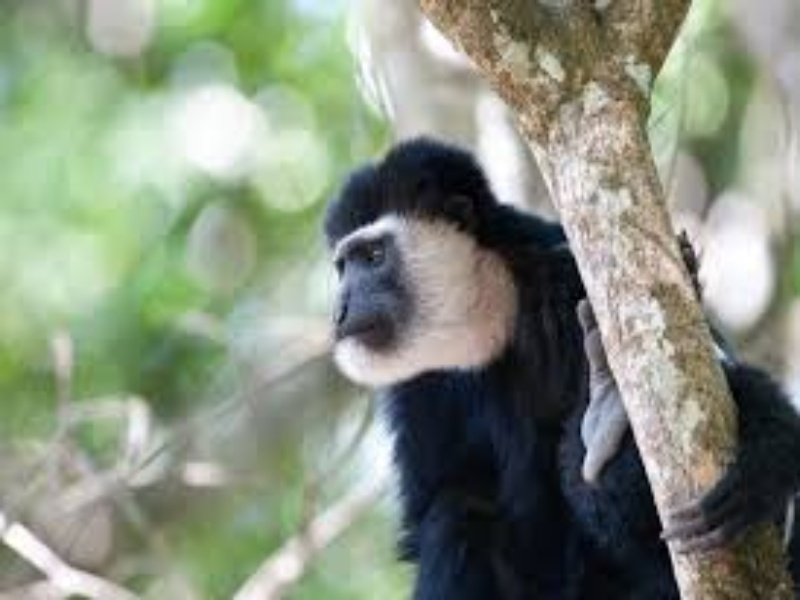monkey: (273, 115, 659, 541)
